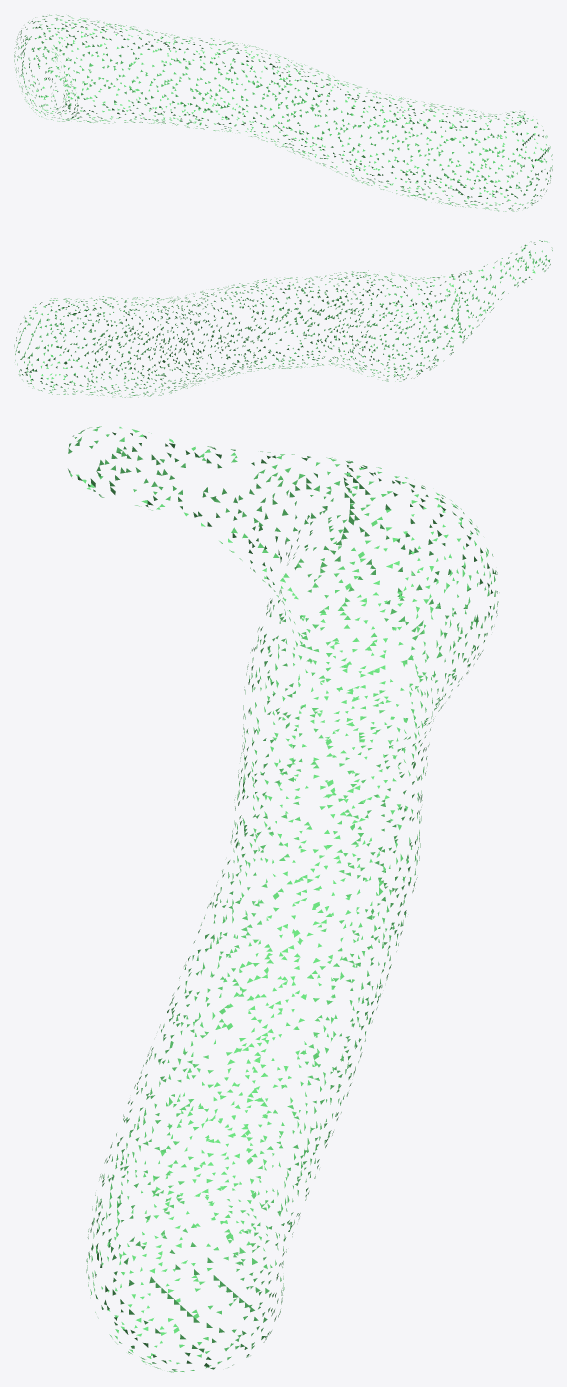
The model's file is morph_019.glb.
The picture shows the model from 3 angles, top to bottom: view 1: azimuth 30°, elevation 25°; view 2: azimuth 150°, elevation 25°; view 3: azimuth 270°, elevation 25°; orthographic projection. The views are drawn at different scales.
Size of the model in its own units: 130 by 61.93 by 48.92.
